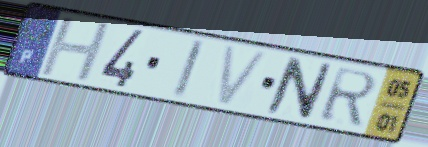4: (97, 28, 145, 90)
H: (36, 16, 115, 84)
I: (169, 36, 209, 102)
N: (262, 55, 336, 123)
R: (316, 65, 380, 129)
V: (214, 42, 273, 110)
